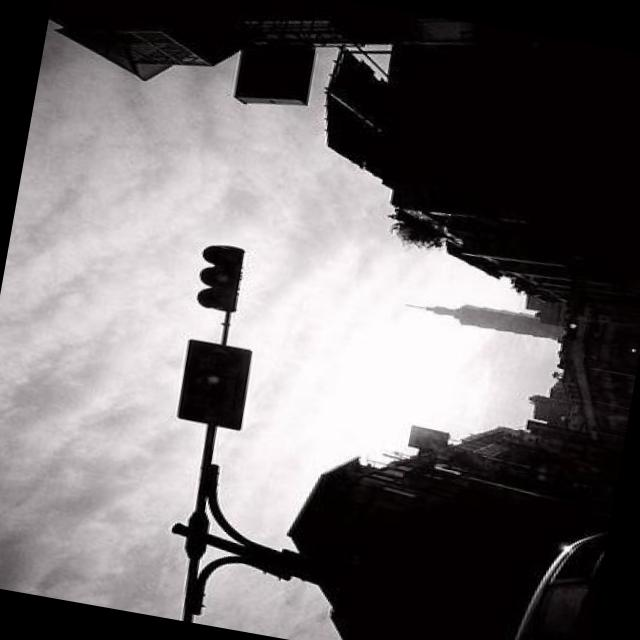car: (499, 520, 599, 640)
traffic light: (174, 338, 253, 430), (194, 241, 246, 313), (568, 322, 577, 328)
